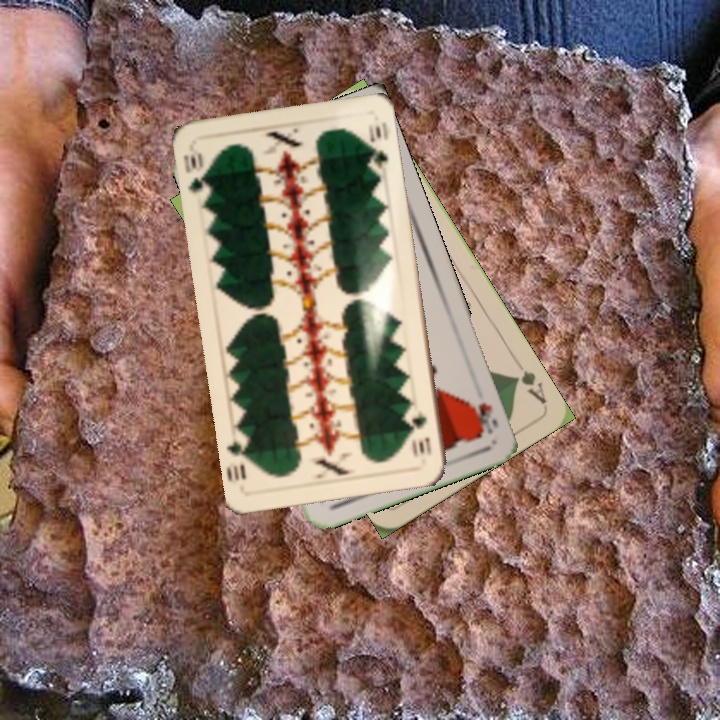G10: (179, 144, 213, 201), (407, 407, 434, 458)
GA: (508, 354, 549, 407)
HO: (468, 399, 501, 440)
